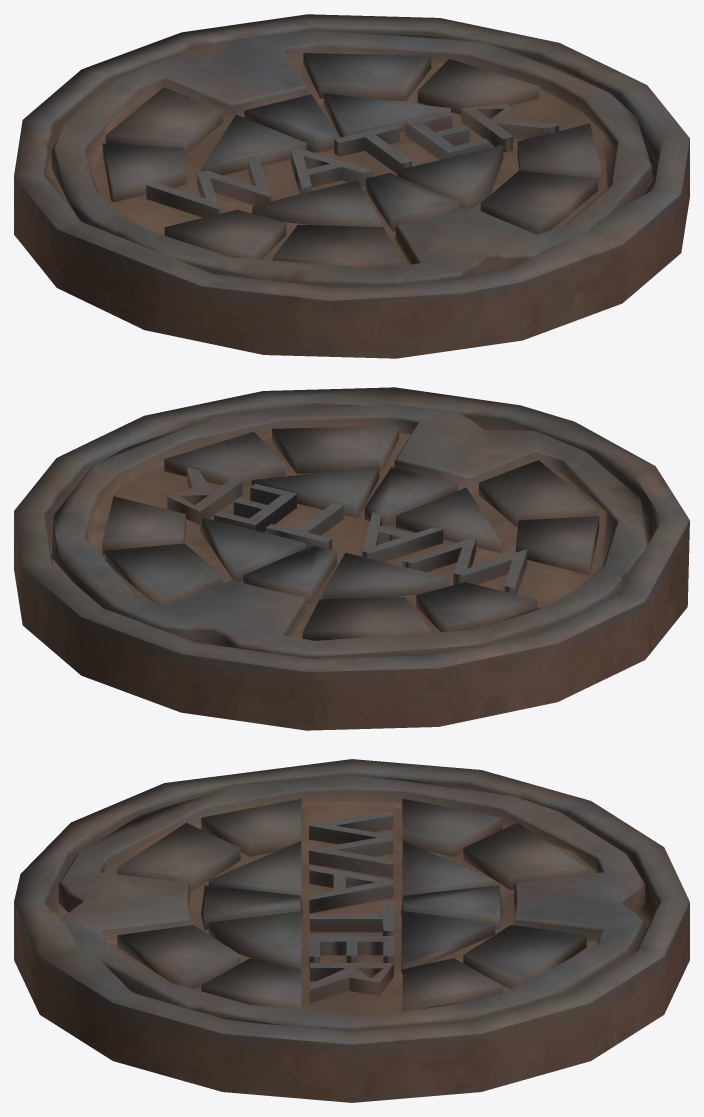
File: manhole.glb
3 views of the same model, one above another, from view 1: azimuth 30°, elevation 25°; view 2: azimuth 150°, elevation 25°; view 3: azimuth 270°, elevation 25° (orthographic).
Parts seen in each view (by area): view 1: water_manhole_cover, water_manhole_cover_frame; view 2: water_manhole_cover, water_manhole_cover_frame; view 3: water_manhole_cover, water_manhole_cover_frame.
Boxes of the visible parts, <box> form: water_manhole_cover: <box>51,31,652,287</box>; water_manhole_cover_frame: <box>14,14,689,358</box>; water_manhole_cover: <box>51,404,649,658</box>; water_manhole_cover_frame: <box>14,387,689,730</box>; water_manhole_cover: <box>58,775,645,1031</box>; water_manhole_cover_frame: <box>14,759,689,1102</box>.
Size of the model in its own units: 0.7151 by 0.07 by 0.7151.
1 material, 1 textured.
